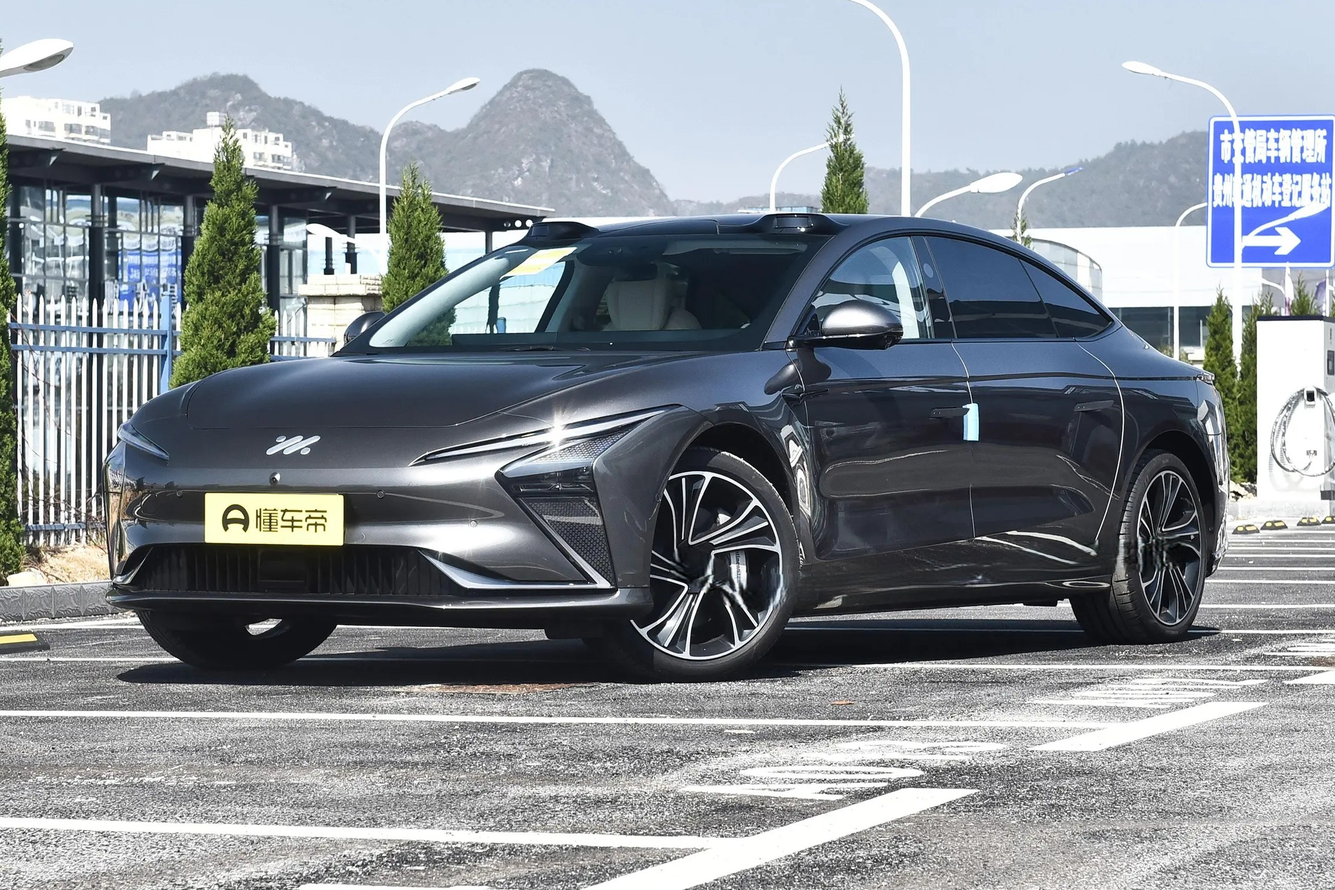IM: (266, 436, 320, 455)
